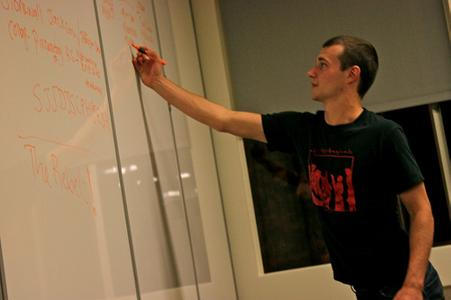person: (134, 35, 446, 300)
